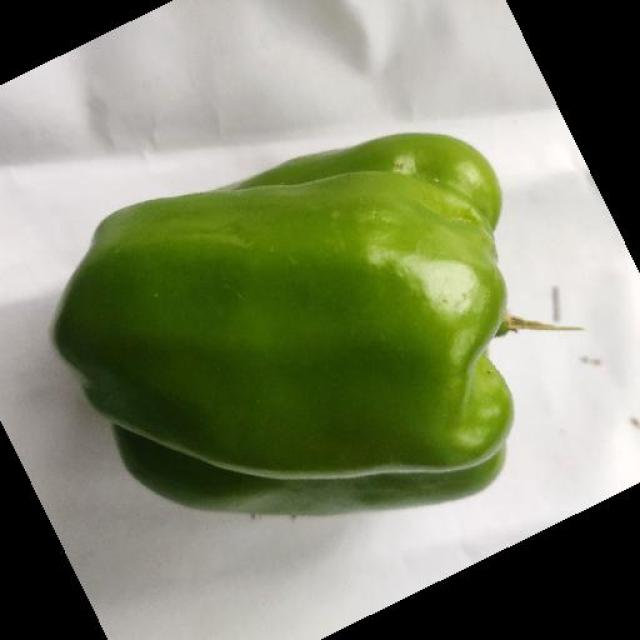Fresh_Capsicum: (56, 166, 519, 508)
